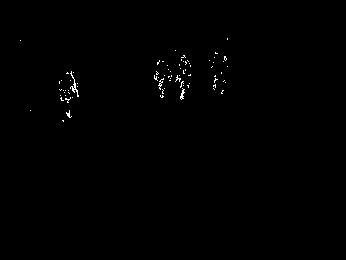person: (207, 49, 234, 97), (58, 71, 82, 119), (177, 53, 194, 102), (154, 56, 169, 100)
